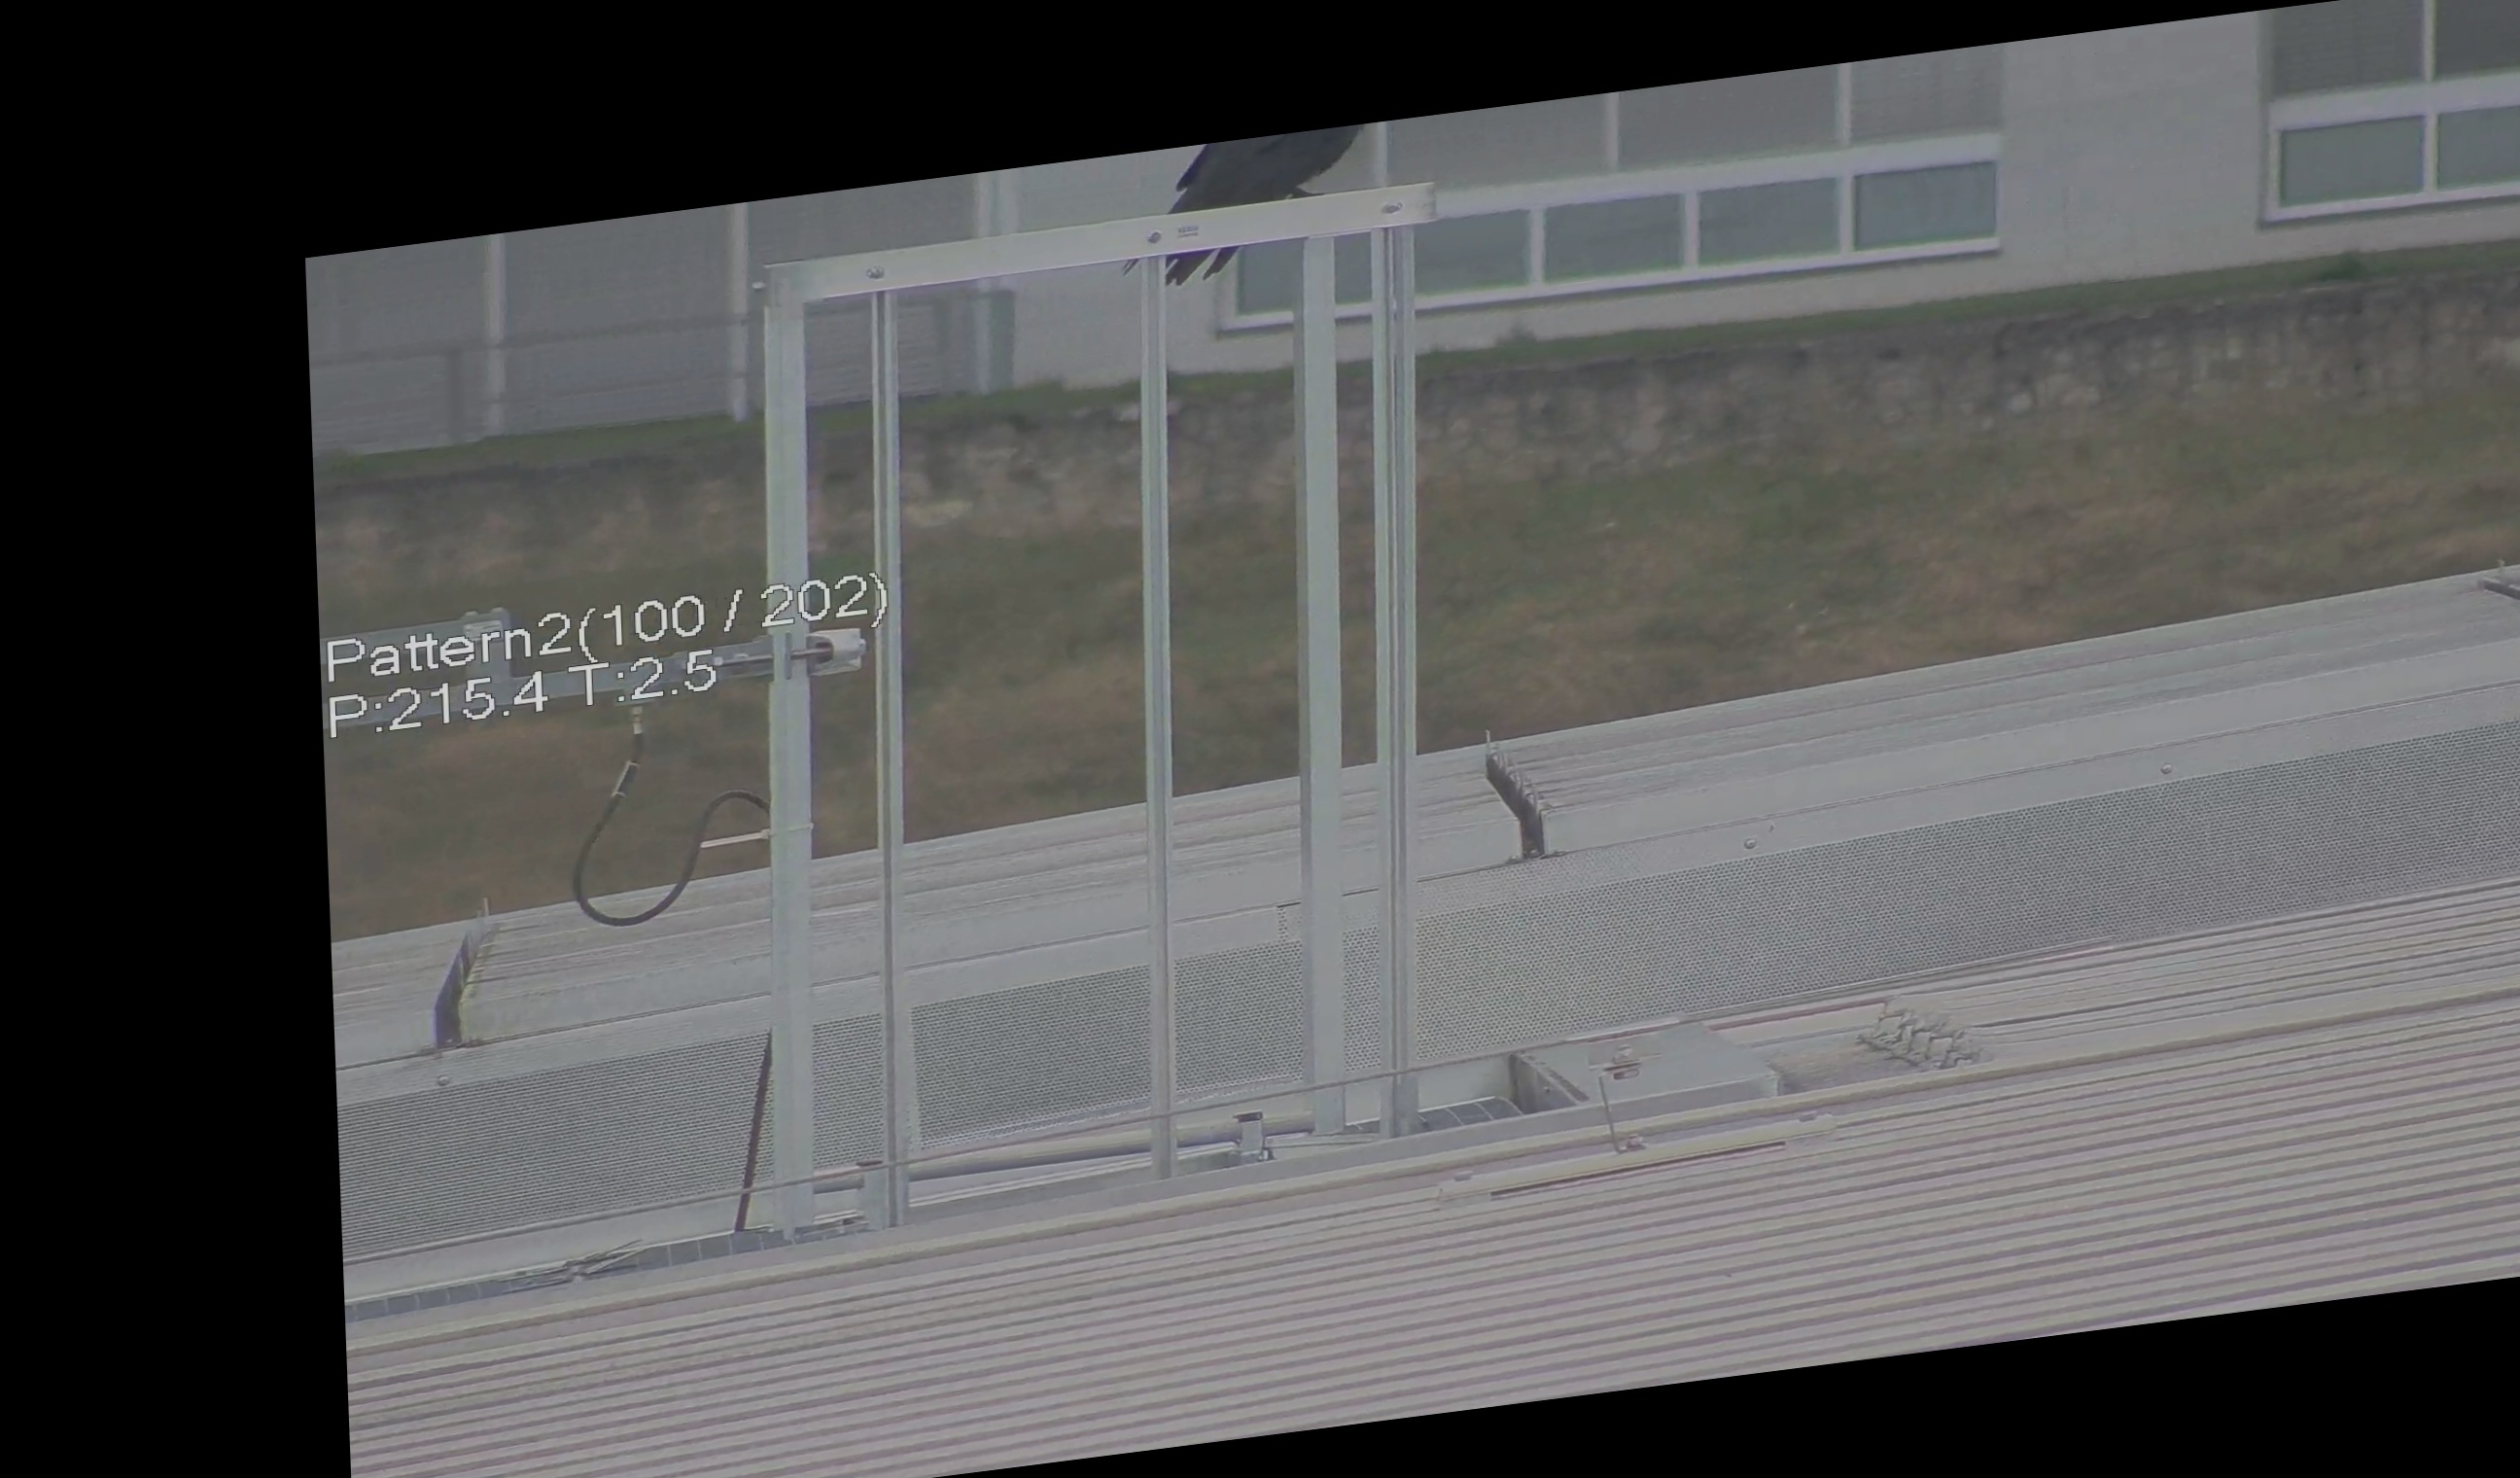Other: (1143, 90, 1377, 229)
